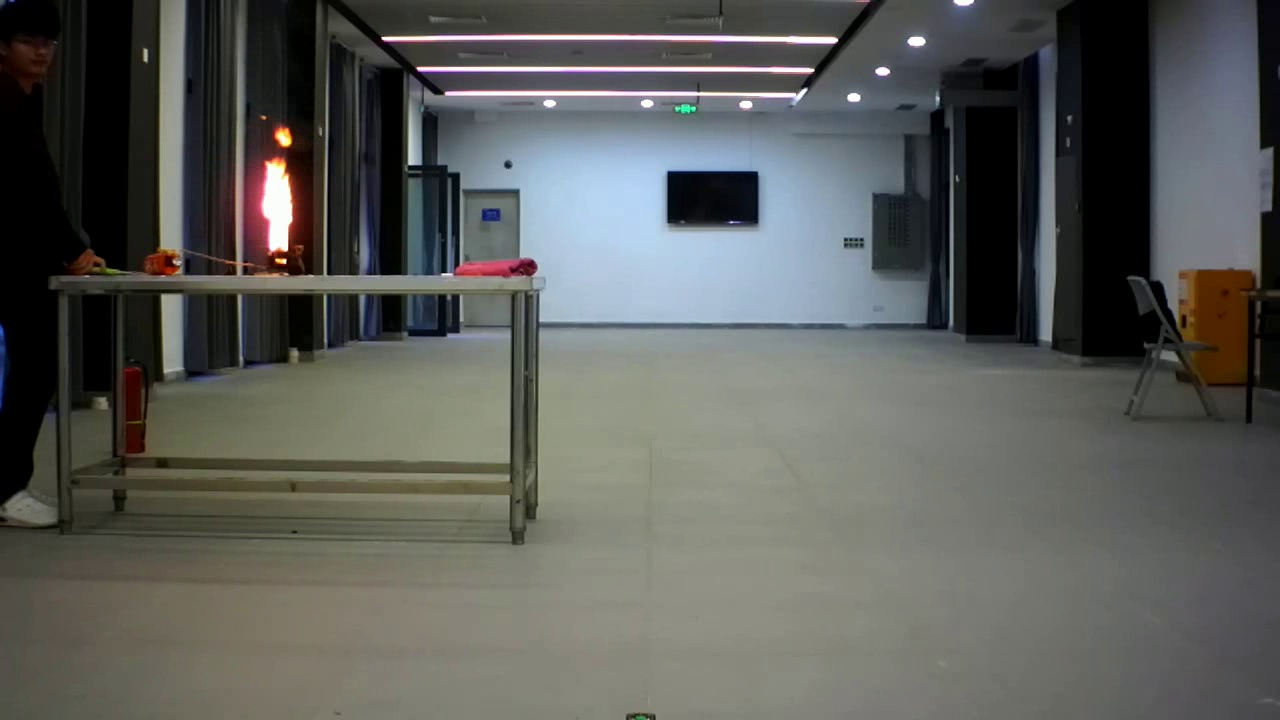Fire: (253, 106, 304, 265)
